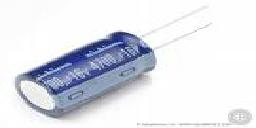Electrolytic-Capacitor: (13, 3, 220, 118)
